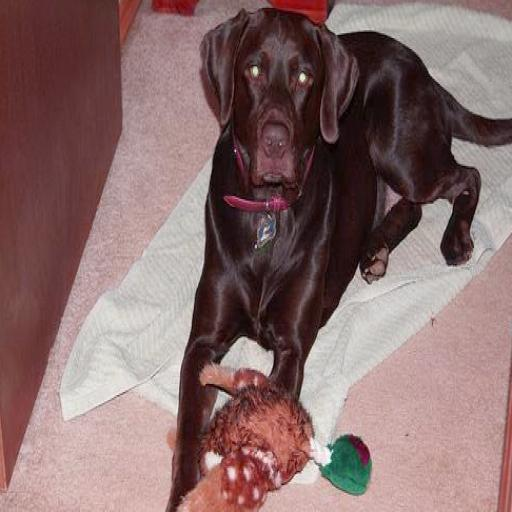dog_face: (204, 6, 362, 195)
